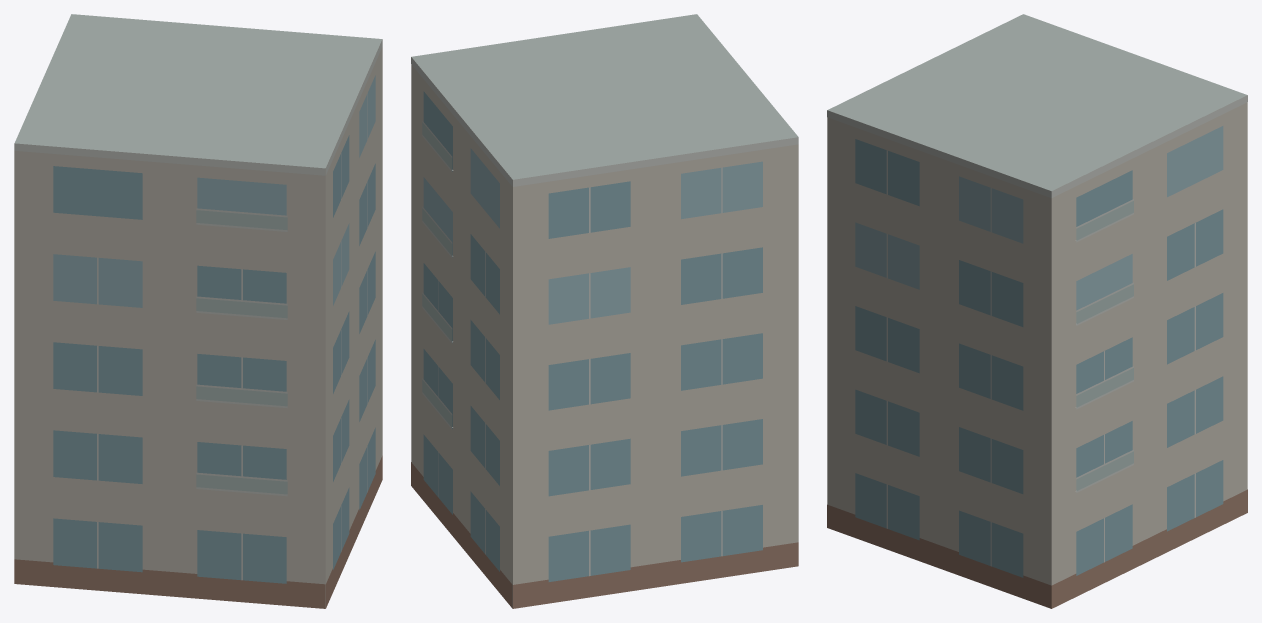
Rendered from survey-upis-32971003.glb.
3 renders of one model, left to right at view 1: azimuth 30°, elevation 25°; view 2: azimuth 150°, elevation 25°; view 3: azimuth 270°, elevation 25°, orthographic. The views are drawn at different scales.
Visible parts, largest first — view 1: survey-upis-32971003.tmp; view 2: survey-upis-32971003.tmp; view 3: survey-upis-32971003.tmp.
Part boxes in pixels (box(x1,y1,x2,y2)): survey-upis-32971003.tmp: box(14, 14, 382, 608); survey-upis-32971003.tmp: box(411, 14, 798, 608); survey-upis-32971003.tmp: box(827, 14, 1247, 608).
Bounding box in the file's own units: 13.25 × 14.55 × 13.28.
